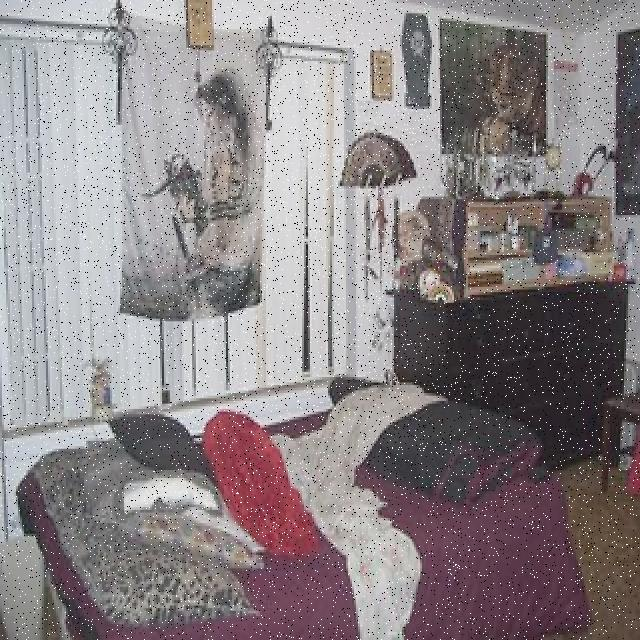bed: (0, 374, 599, 640)
